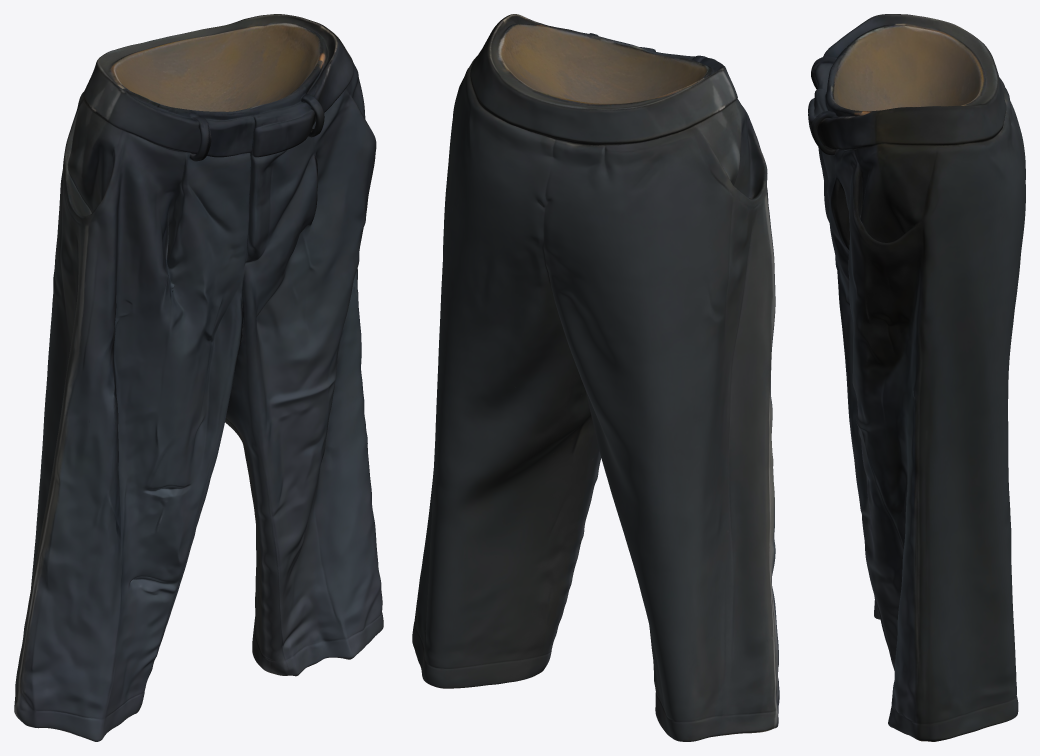
Rendered from autumn_boy_bottom_03.glb.
3 views of the same model, side by side, from view 1: azimuth 30°, elevation 25°; view 2: azimuth 150°, elevation 25°; view 3: azimuth 270°, elevation 25° (orthographic). The views are drawn at different scales.
Parts seen in each view (by area): view 1: tripo_node_72e1c58a-d066-470a-aeef-24ba5d64c9d0; view 2: tripo_node_72e1c58a-d066-470a-aeef-24ba5d64c9d0; view 3: tripo_node_72e1c58a-d066-470a-aeef-24ba5d64c9d0.
Boxes of the visible parts, x1,y1,x2,y2 form: tripo_node_72e1c58a-d066-470a-aeef-24ba5d64c9d0: (14, 14, 383, 741); tripo_node_72e1c58a-d066-470a-aeef-24ba5d64c9d0: (412, 14, 779, 741); tripo_node_72e1c58a-d066-470a-aeef-24ba5d64c9d0: (808, 14, 1025, 741).
Bounding box in the file's own units: 0.5879 × 1 × 0.3178.
Materials: 1 (1 with a texture image).
